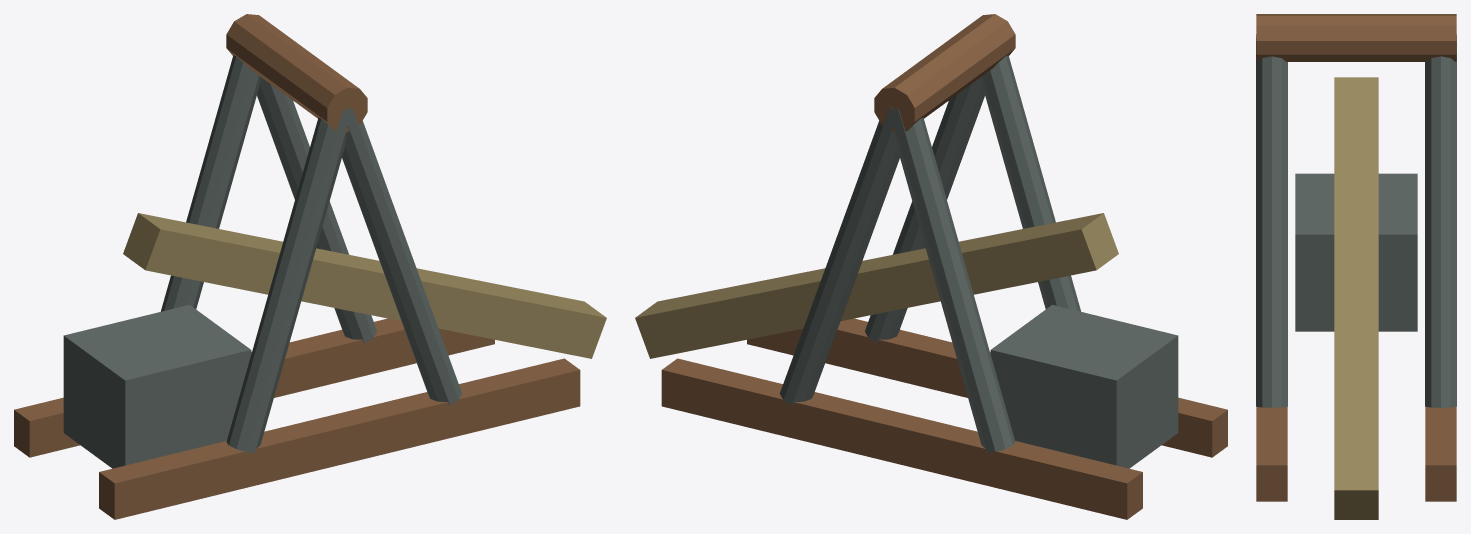
The model's file is v2_oil_pump.glb.
The picture shows the model from 3 angles, left to right: view 1: azimuth 30°, elevation 25°; view 2: azimuth 150°, elevation 25°; view 3: azimuth 270°, elevation 25°; orthographic projection.
Parts seen in each view (by area): view 1: Cube; view 2: Cube; view 3: Cube.
Part boxes in pixels (x1,y1,x2,y2): Cube: (14,14,606,519); Cube: (635,14,1227,519); Cube: (1256,14,1456,519).
Bounding box in the file's own units: 2.75 × 1.86 × 0.907.
